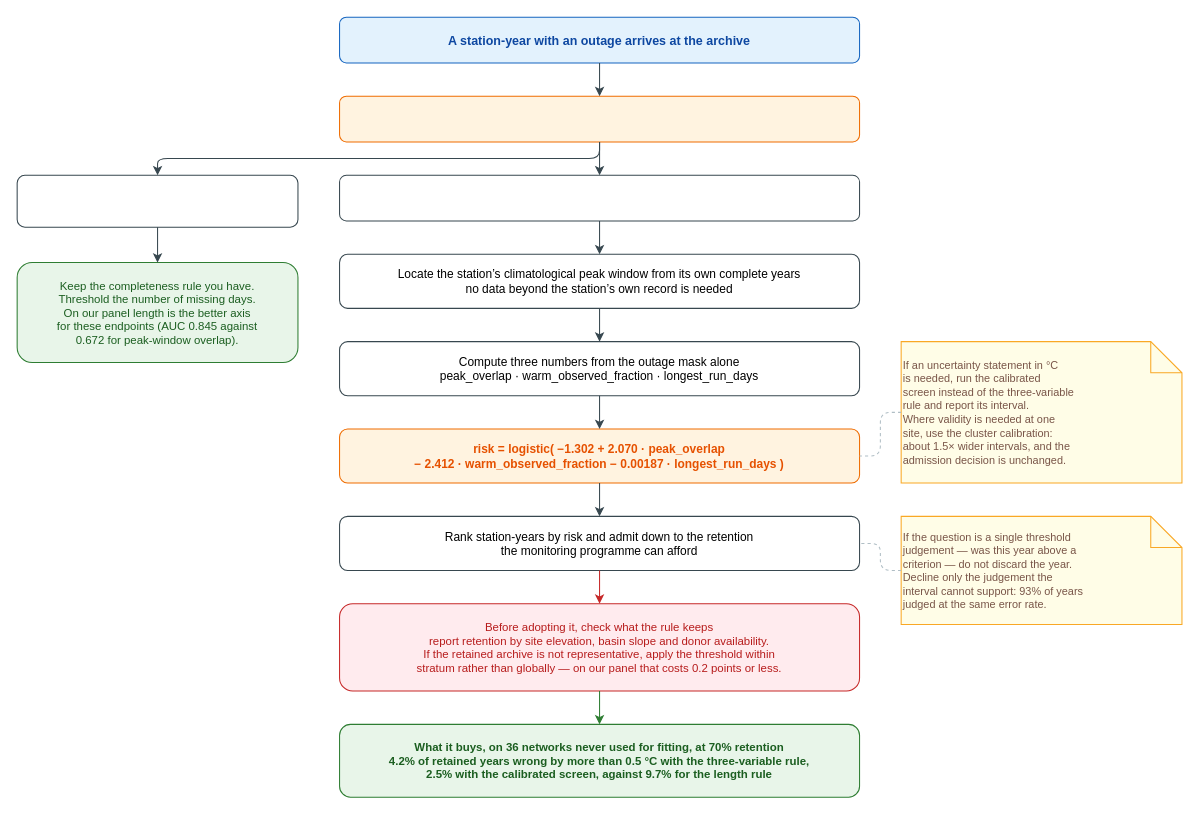
This 1199x814 diagram has some shape labels left out. Each missing label, with the centre of its shape:
A warm-season extreme — hottest 7-day or 30-day mean: point 599,197
An average over the year annual mean, coldest 30-day mean: point 157,200
Which statistic will be computed from this year?: point 599,118
